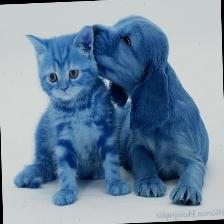kedo: (13, 27, 131, 206)
